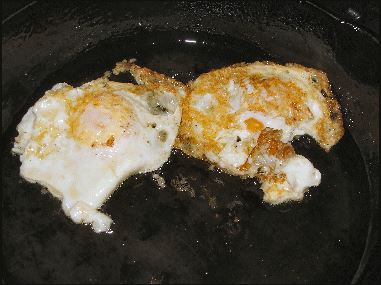fried_eggs: (28, 74, 158, 182), (203, 73, 325, 179)
